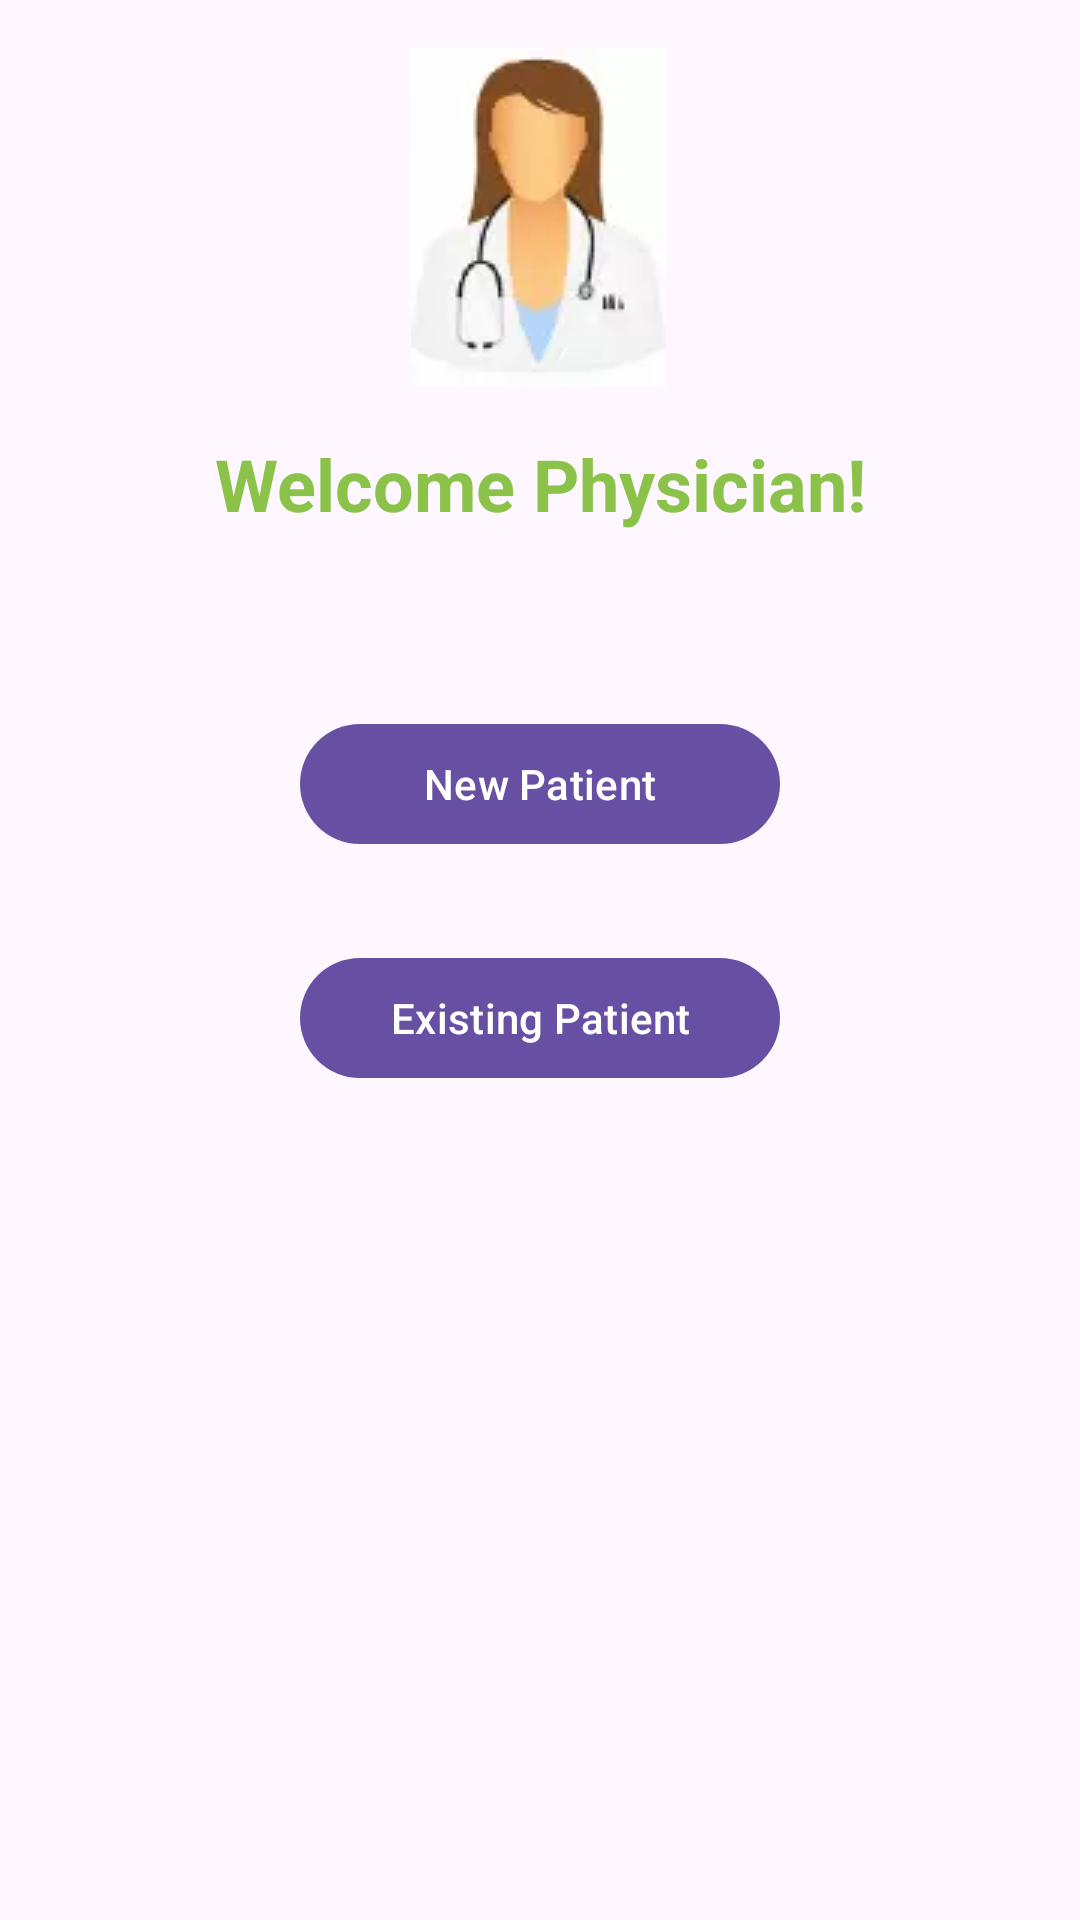

Icon bounding boxes for this 1080 x 1920 phone screenshot, format region(x1, y1, x2, y2):
doctor: region(455, 57, 625, 363)
